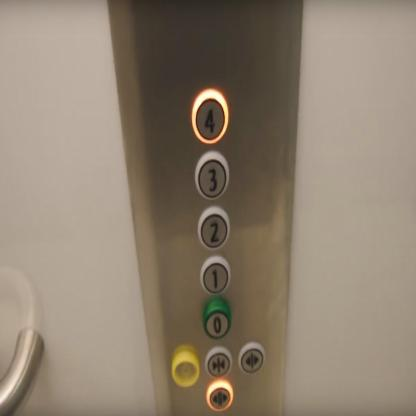0: (201, 295, 231, 339)
1: (198, 254, 230, 295)
2: (197, 204, 230, 250)
3: (194, 149, 230, 201)
4: (190, 86, 229, 146)
blur: (170, 344, 199, 390)
close: (204, 344, 233, 378)
open: (238, 340, 266, 376), (205, 378, 234, 412)
